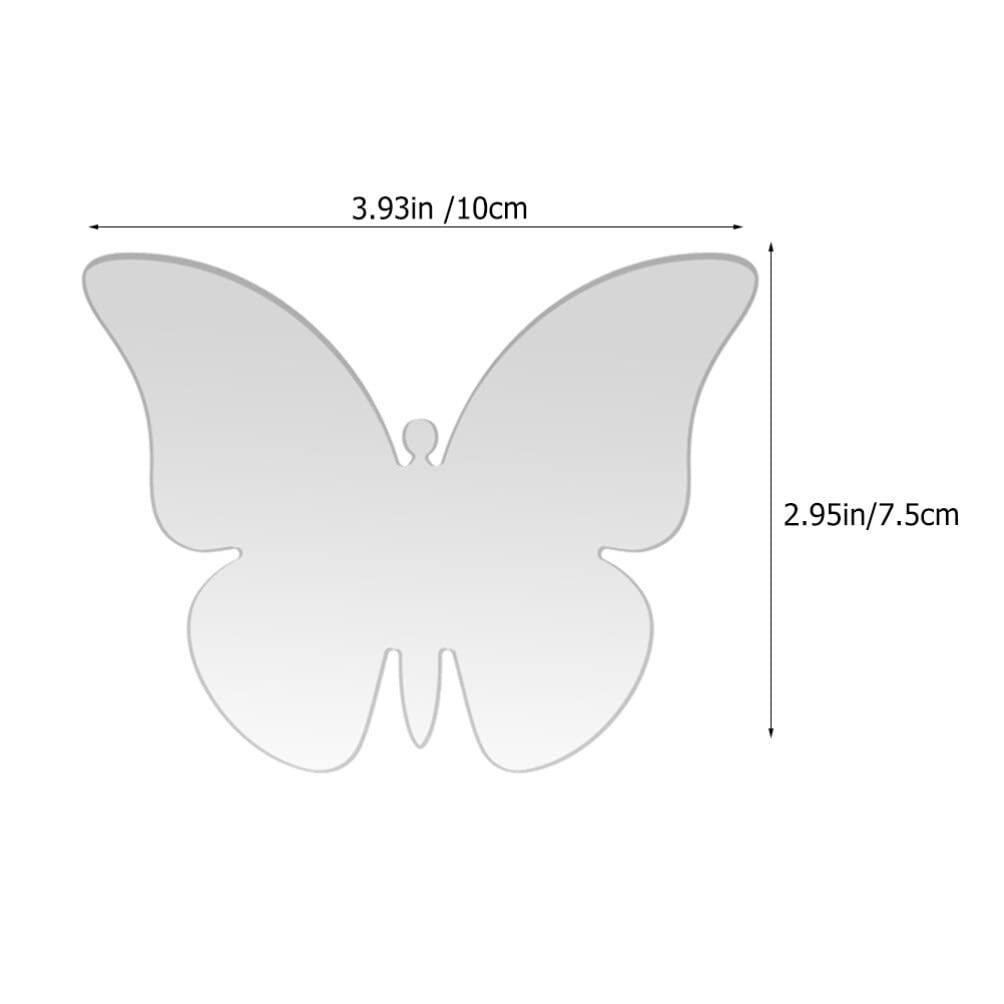/10cm: (443, 195, 527, 224)
2.95in/7.5cm: (784, 502, 959, 531)
3.93in: (352, 196, 433, 221)
